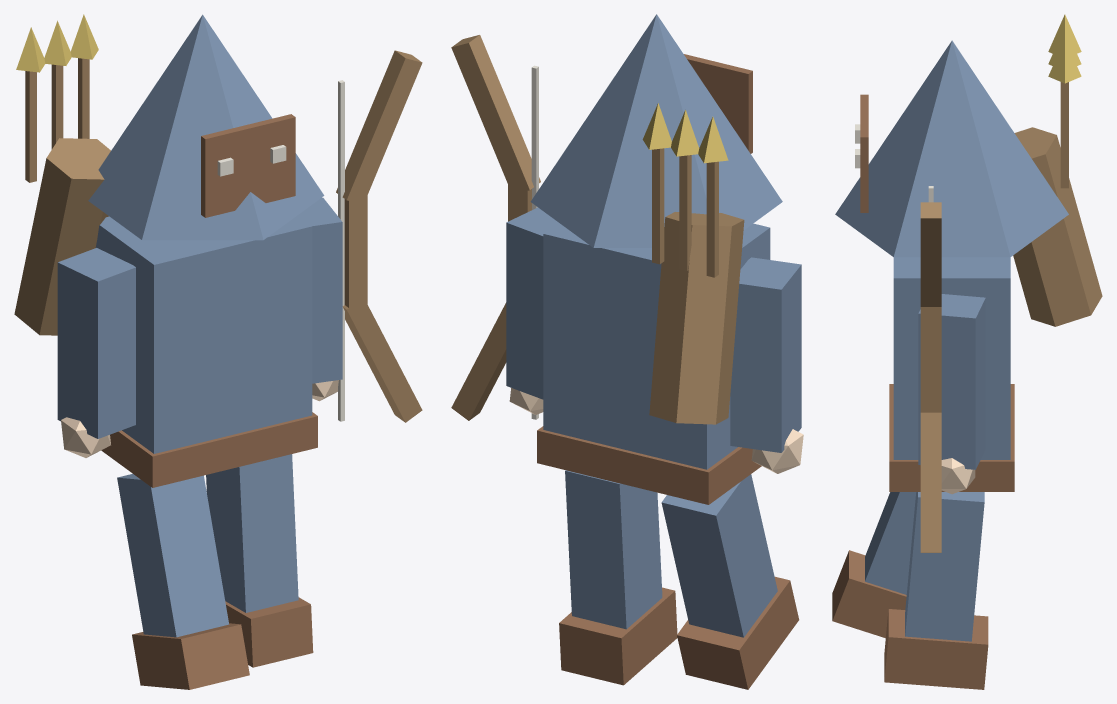
Rendered from npcpose_archer_walk_08.glb.
3 views of the same model, side by side, from view 1: azimuth 30°, elevation 25°; view 2: azimuth 150°, elevation 25°; view 3: azimuth 270°, elevation 25° (orthographic). The views are drawn at different scales.
Parts seen in each view (by area): view 1: npcpose; view 2: npcpose; view 3: npcpose.
Part boxes in pixels (left/top/right/bottom): npcpose: left=14, top=14, right=422, bottom=689; npcpose: left=451, top=14, right=803, bottom=689; npcpose: left=832, top=14, right=1102, bottom=689.
Bounding box in the file's own units: 0.9089 × 1.63 × 0.6465.
